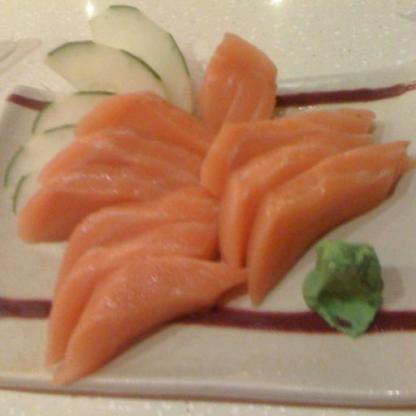salmon: (19, 34, 408, 384)
